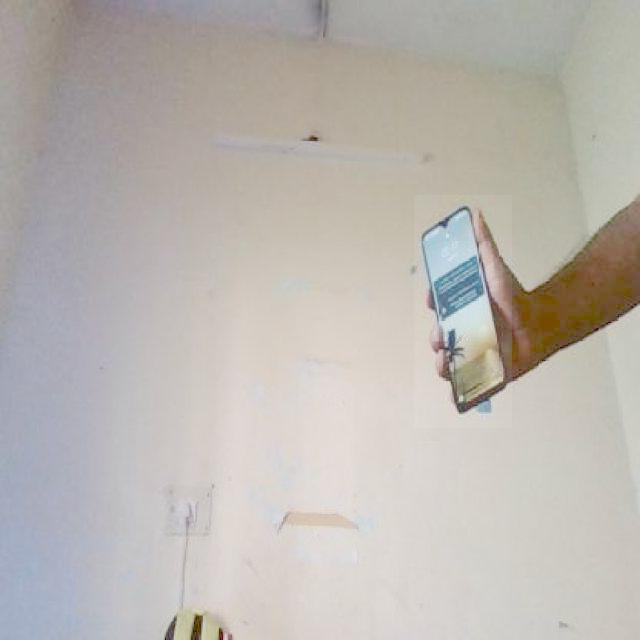mobile: (413, 195, 512, 428)
